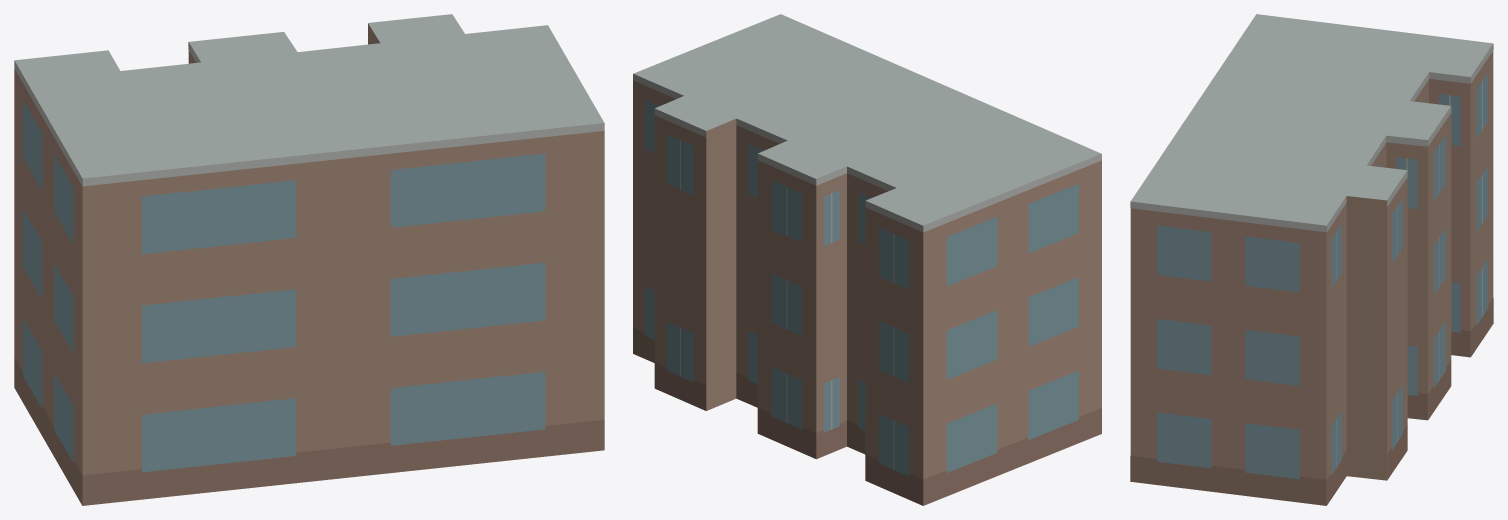
The model's file is survey-upis-32884821.glb.
The picture shows the model from 3 angles, left to right: view 1: azimuth 30°, elevation 25°; view 2: azimuth 150°, elevation 25°; view 3: azimuth 270°, elevation 25°; orthographic projection. The views are drawn at different scales.
Visible parts, largest first — view 1: survey-upis-32884821.tmp; view 2: survey-upis-32884821.tmp; view 3: survey-upis-32884821.tmp.
Part boxes in pixels (box(x1,y1,x2,y2)): survey-upis-32884821.tmp: box(14, 14, 604, 505); survey-upis-32884821.tmp: box(633, 14, 1101, 505); survey-upis-32884821.tmp: box(1130, 14, 1493, 505).
Bounding box in the file's own units: 16.62 × 10.25 × 12.04.
